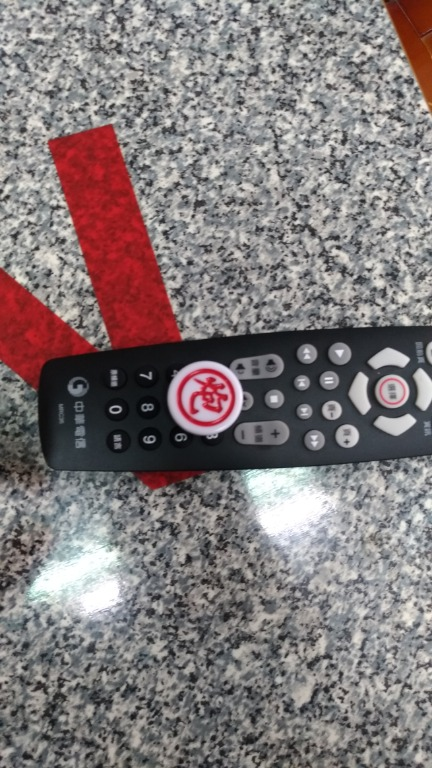r-cannon: (149, 353, 266, 445)
